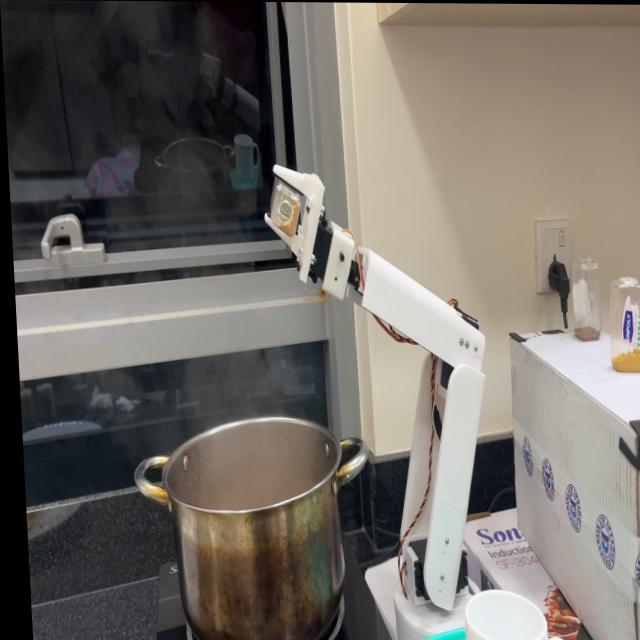cooking_pot: (123, 424, 382, 635)
curry_powder: (609, 345, 640, 376)
garlic_powder: (271, 200, 300, 244)
maggie_open: (575, 321, 598, 338)
